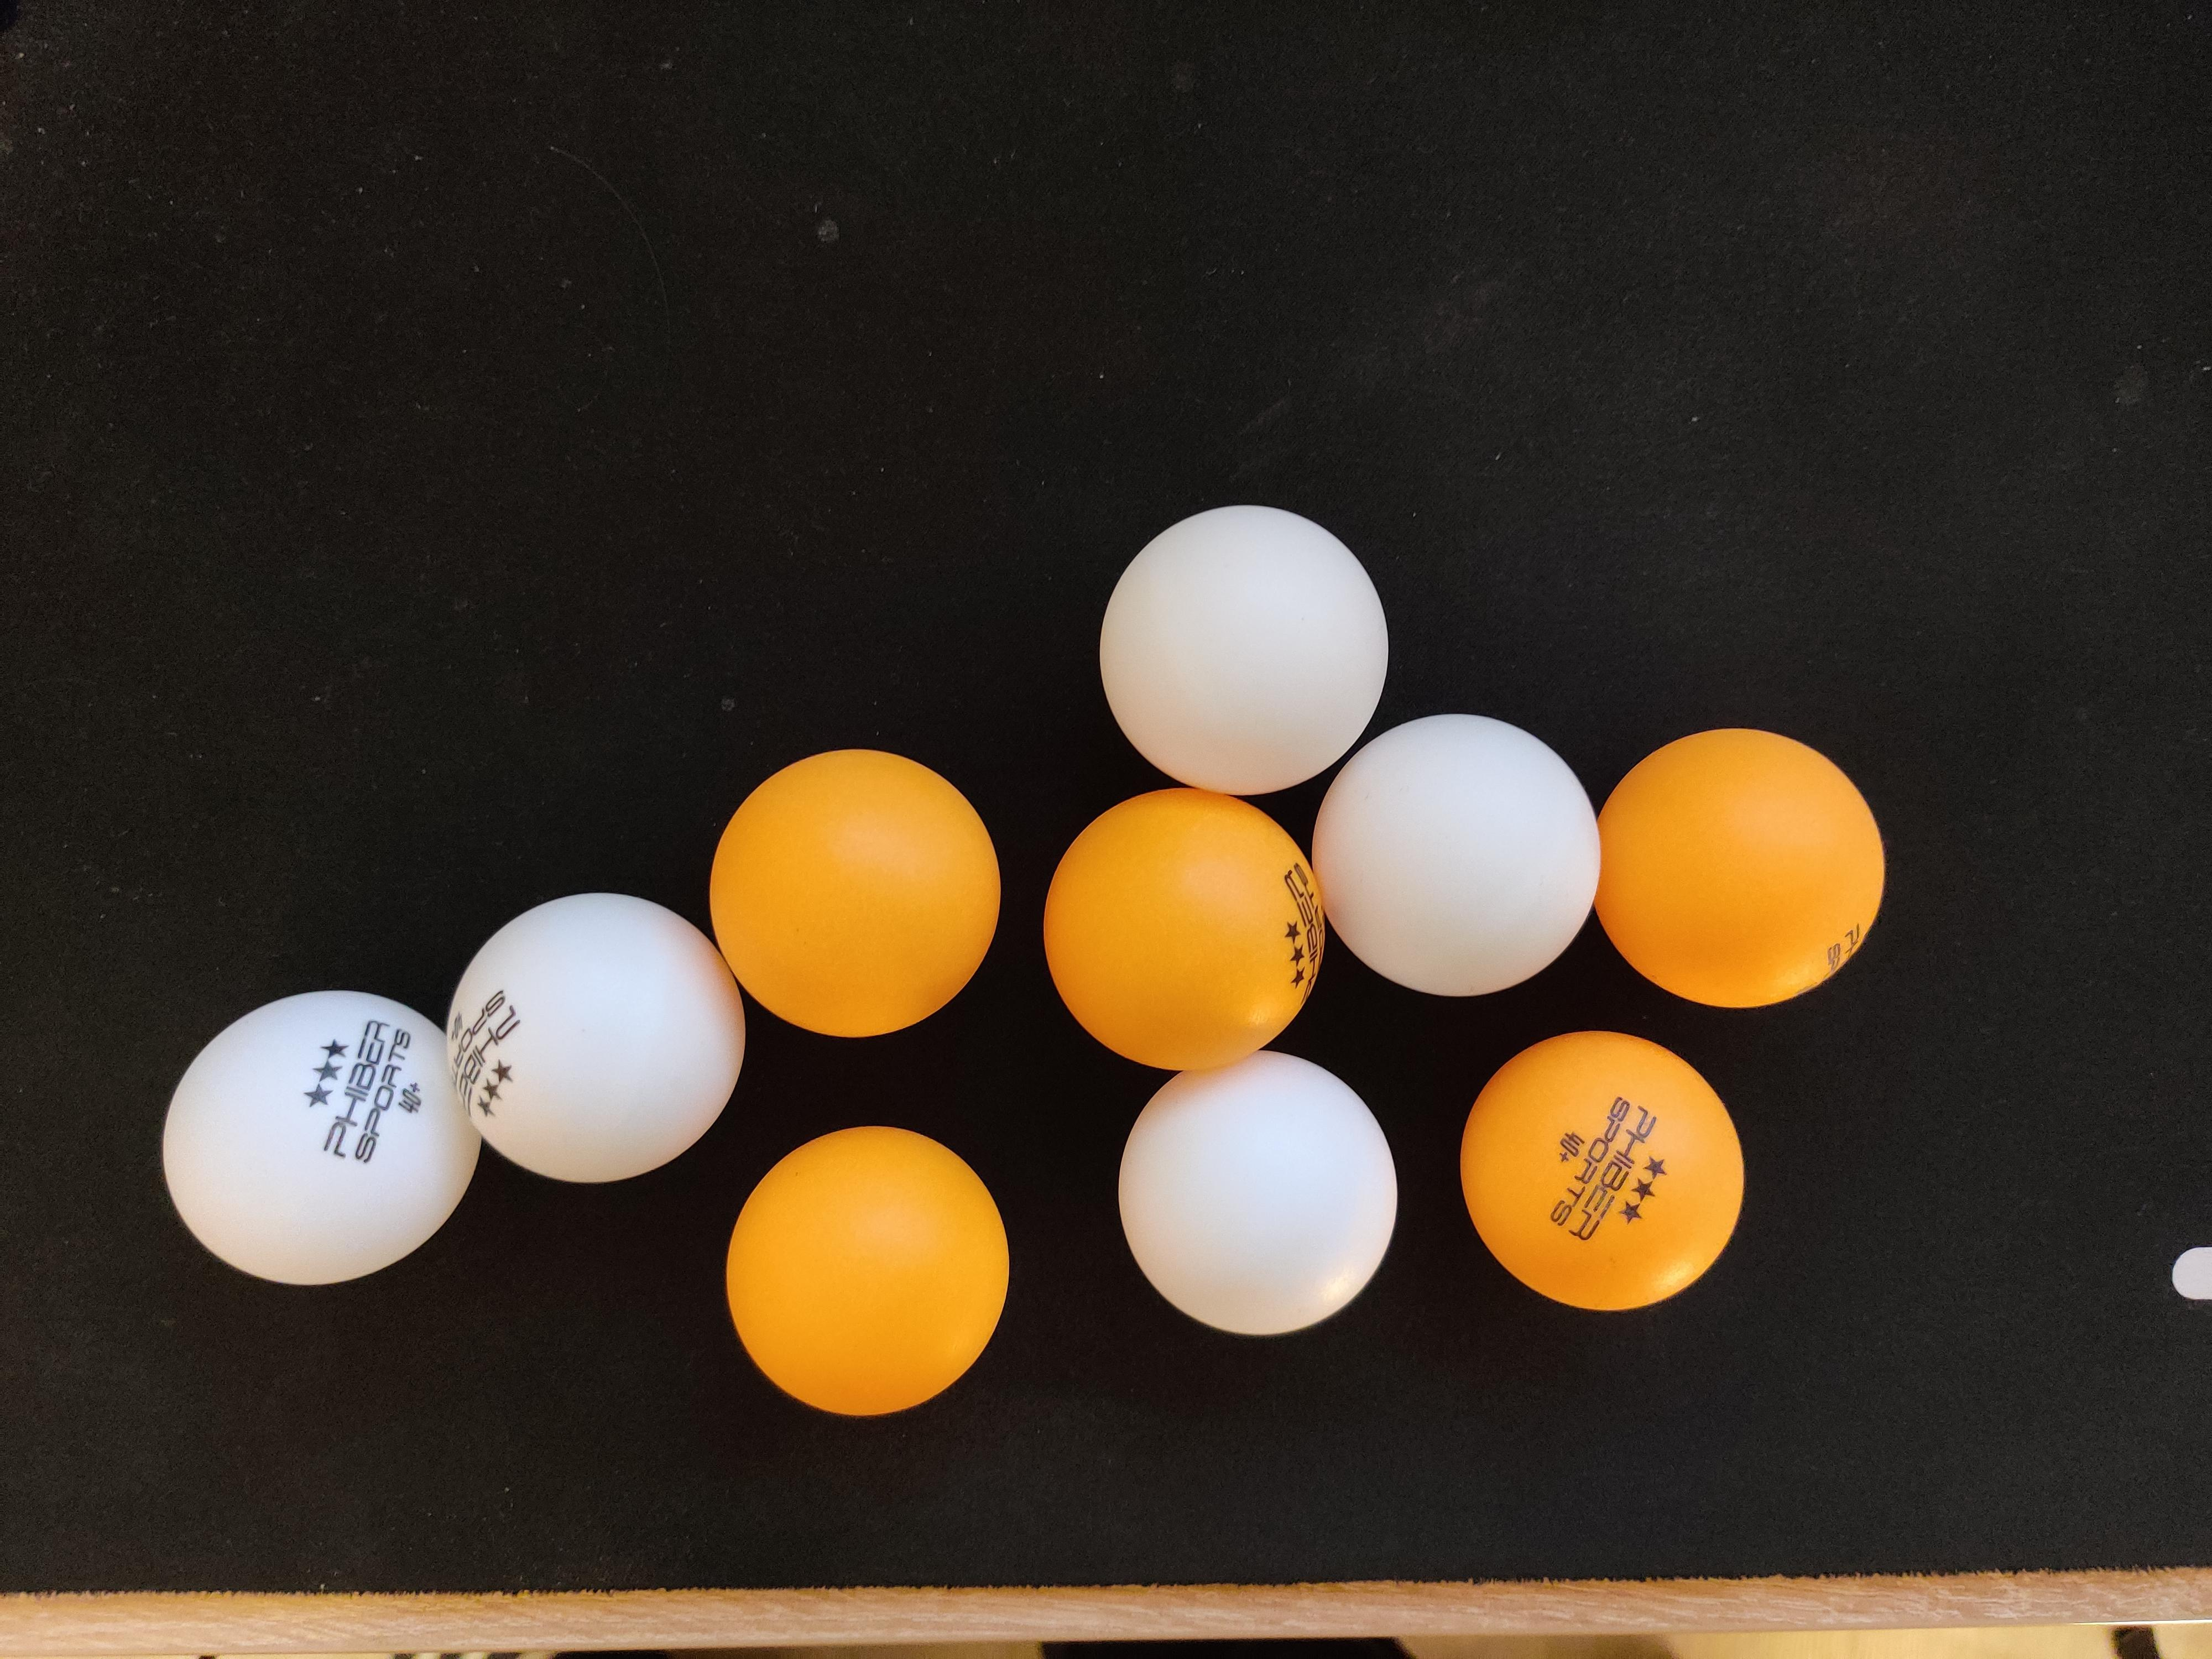orange: (707, 742, 1003, 1042), (725, 1124, 1014, 1419), (1458, 1025, 1749, 1316), (1040, 784, 1329, 1075), (1597, 725, 1890, 1007)
white: (155, 988, 489, 1290), (448, 887, 751, 1188), (1096, 500, 1392, 800), (1310, 711, 1602, 1002), (1118, 1046, 1402, 1340)
